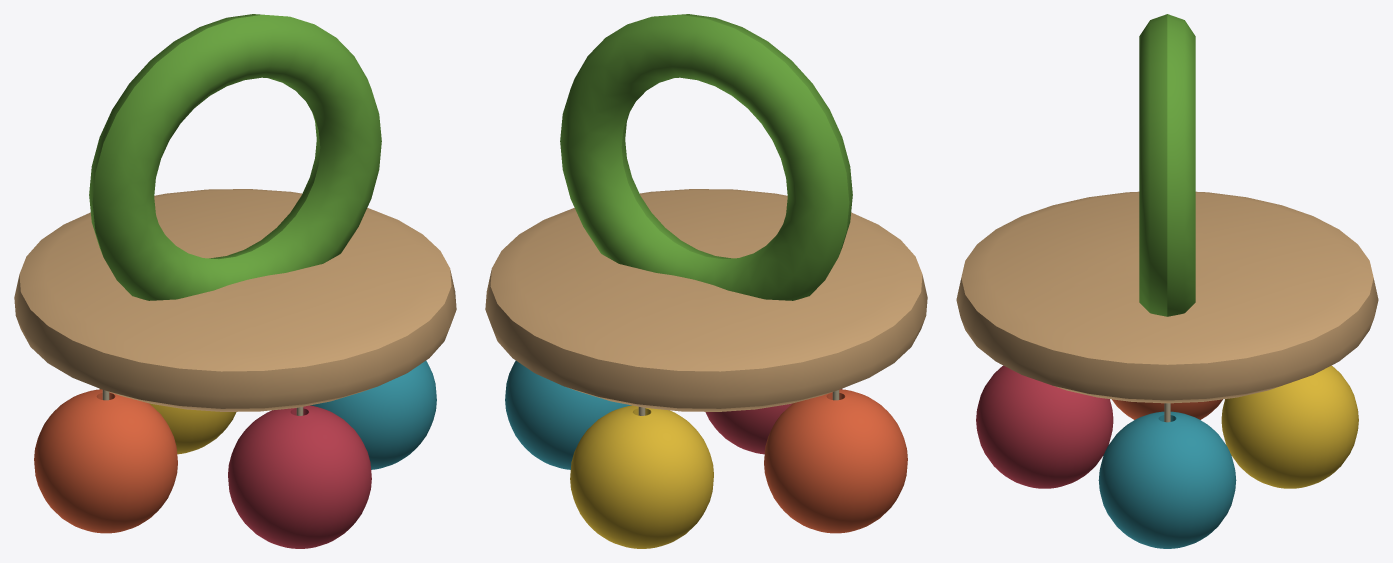
The picture shows the model from 3 angles, left to right: view 1: azimuth 30°, elevation 25°; view 2: azimuth 150°, elevation 25°; view 3: azimuth 270°, elevation 25°; orthographic projection. The views are drawn at different scales.
Visible parts, largest first — view 1: Rounded wooden base, Round open grip, Bead3 with real axial bore, Bead0 with real axial bore, Bead1 with real axial bore, Bead2 with real axial bore; view 2: Rounded wooden base, Round open grip, Bead2 with real axial bore, Bead0 with real axial bore, Bead1 with real axial bore, Bead3 with real axial bore; view 3: Rounded wooden base, Round open grip, Bead1 with real axial bore, Bead2 with real axial bore, Bead3 with real axial bore, Bead0 with real axial bore.
Boxes of the visible parts, x1,y1,x2,y2 form: Rounded wooden base: (14,189,456,411); Round open grip: (89,14,381,300); Bead3 with real axial bore: (228,405,371,548); Bead0 with real axial bore: (34,389,177,533); Bead1 with real axial bore: (310,360,436,469); Bead2 with real axial bore: (100,389,236,454); Rounded wooden base: (485,189,927,411); Round open grip: (560,14,852,300); Bead2 with real axial bore: (570,405,713,548); Bead0 with real axial bore: (764,389,907,533); Bead1 with real axial bore: (505,360,631,469); Bead3 with real axial bore: (705,389,841,454); Rounded wooden base: (956,191,1378,403); Round open grip: (1139,14,1195,316); Bead1 with real axial bore: (1098,411,1236,548); Bead2 with real axial bore: (1221,365,1358,488); Bead3 with real axial bore: (976,365,1113,488); Bead0 with real axial bore: (1112,399,1222,419).
Size of the model in its own units: 0.086 by 0.1019 by 0.086.
